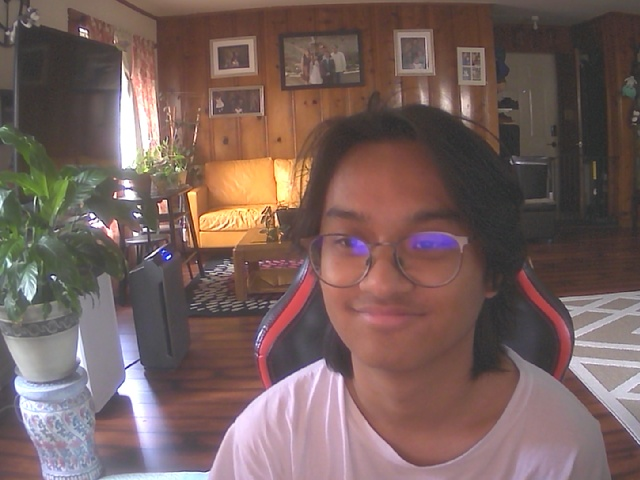happy: (293, 118, 513, 379)
